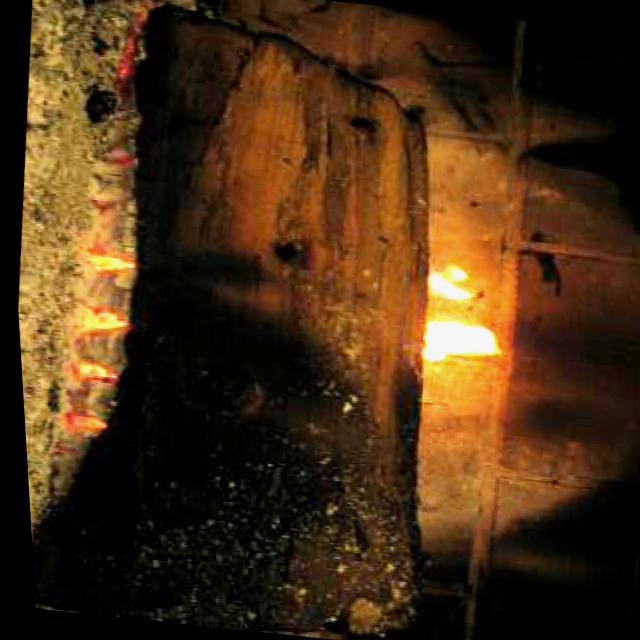helmet: (386, 256, 520, 371)
